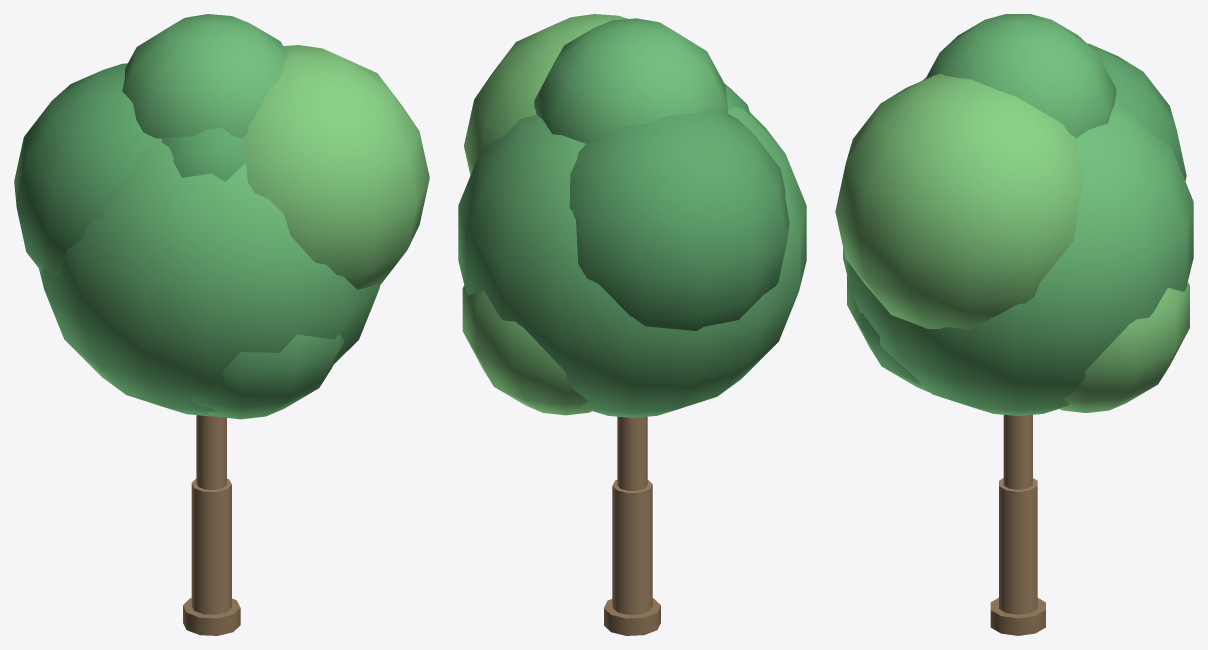
File: tree.glb
3 views of the same model, side by side, from view 1: azimuth 30°, elevation 25°; view 2: azimuth 150°, elevation 25°; view 3: azimuth 270°, elevation 25° (orthographic).
Bounding box in the file's own units: 4.01 × 6.85 × 3.7.
